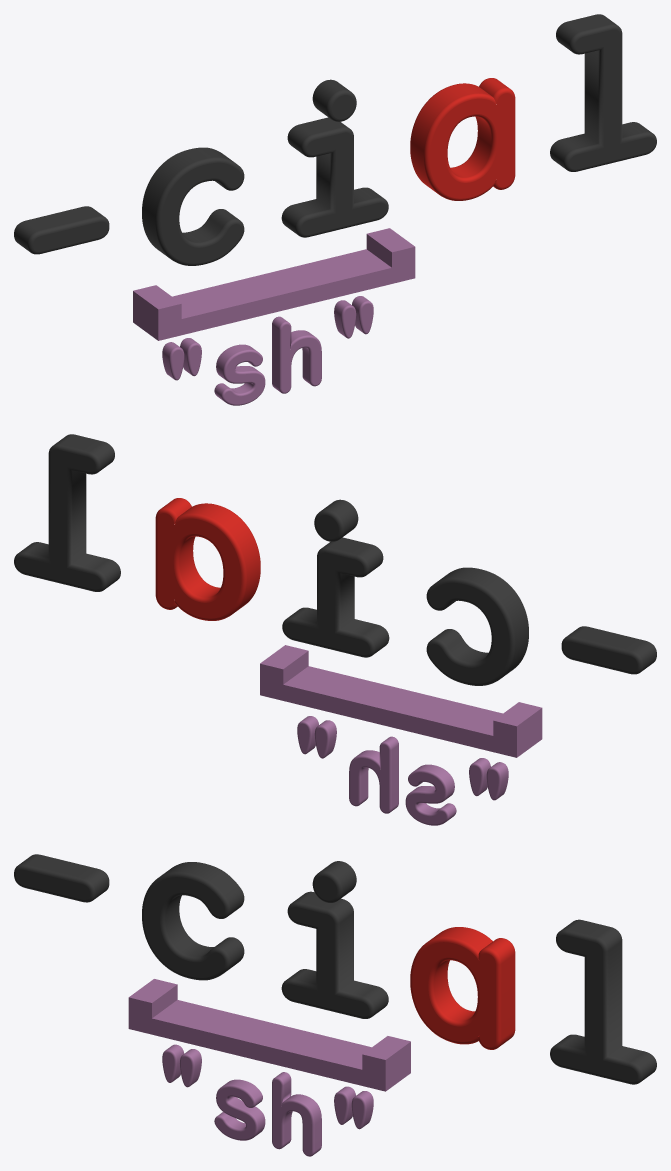
The model's file is -cial.gltf.
3 views of the same model, one above another, from view 1: azimuth 30°, elevation 25°; view 2: azimuth 150°, elevation 25°; view 3: azimuth 330°, elevation 25° (orthographic).
Visible parts, largest first — view 1: Text, Cube.000, Text.005, Text.003, Text.001; view 2: Text, Cube.000, Text.005, Text.003, Text.001; view 3: Text, Cube.000, Text.005, Text.003, Text.001.
Boxes of the visible parts, left/top/right/bottom form: Text: left=281, top=14, right=656, bottom=237; Cube.000: left=133, top=228, right=415, bottom=340; Text.005: left=14, top=147, right=244, bottom=265; Text.003: left=410, top=78, right=515, bottom=200; Text.001: left=162, top=296, right=373, bottom=405; Text: left=14, top=434, right=389, bottom=657; Cube.000: left=260, top=645, right=542, bottom=757; Text.005: left=426, top=567, right=656, bottom=685; Text.003: left=155, top=498, right=260, bottom=620; Text.001: left=297, top=716, right=508, bottom=825; Text: left=281, top=861, right=656, bottom=1084; Cube.000: left=128, top=979, right=410, bottom=1091; Text.005: left=14, top=854, right=244, bottom=980; Text.003: left=410, top=927, right=515, bottom=1049; Text.001: left=162, top=1044, right=373, bottom=1156.
Bounding box in the file's own units: 2.72 × 1.21 × 0.1906.
